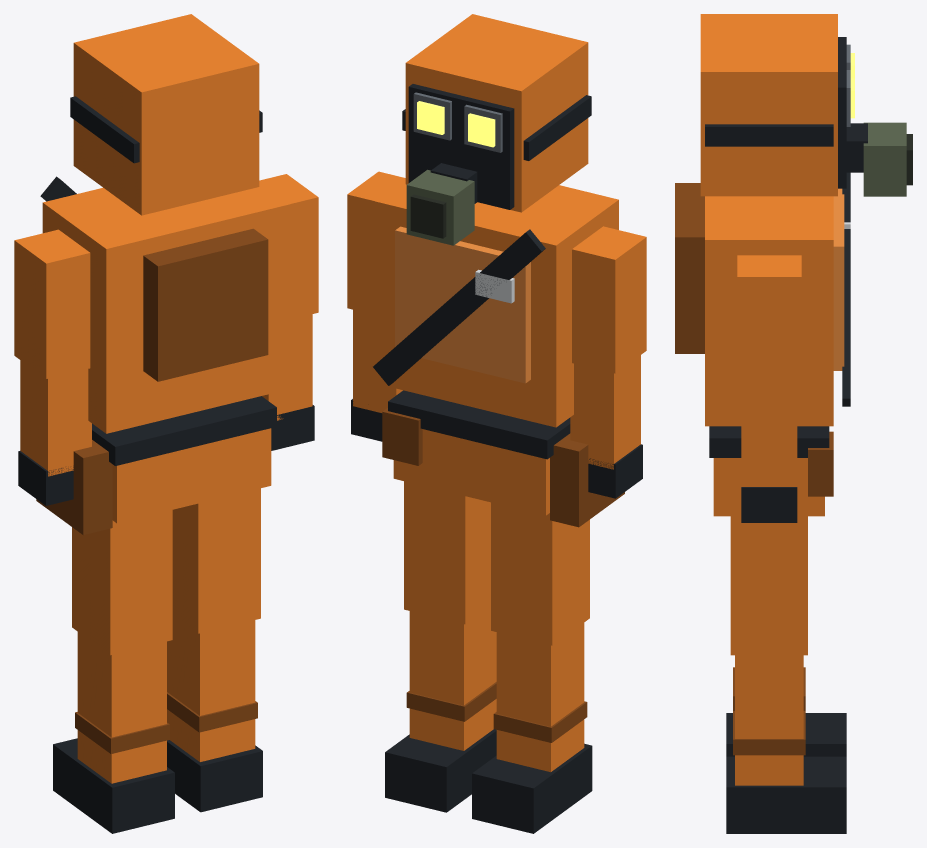
File: gas_mask_orange.glb
3 renders of one model, left to right at view 1: azimuth 30°, elevation 25°; view 2: azimuth 150°, elevation 25°; view 3: azimuth 270°, elevation 25°, orthographic. The views are drawn at different scales.
Parts seen in each view (by area): view 1: Merged4, Merged, Merged7, Merged5, Merged6, _MeshInstance3D_1635, _MeshInstance3D_1646, _MeshInstance3D_1630, Merged2, _MeshInstance3D_1641, Merged3; view 2: Merged4, Merged, Merged7, Merged5, Merged6, _MeshInstance3D_1635, _MeshInstance3D_1646, _MeshInstance3D_1630, Merged2, _MeshInstance3D_1641, Merged3; view 3: Merged, Merged4, Merged6, _MeshInstance3D_1646, _MeshInstance3D_1641, Merged3, Merged7, Merged5.
Boxes of the visible parts, x1,y1,x2,y2 form: Merged4: (40,176,290,433); Merged: (70,14,262,215); Merged7: (36,396,276,534); Merged5: (53,632,174,833); Merged6: (167,615,262,812); _MeshInstance3D_1635: (72,510,172,655); _MeshInstance3D_1646: (172,488,260,633); _MeshInstance3D_1630: (14,229,90,378); Merged2: (18,360,91,505); _MeshInstance3D_1641: (259,174,318,319); Merged3: (262,314,314,450); Merged4: (373,179,618,427); Merged: (402,14,591,245); Merged7: (382,390,624,527); Merged5: (472,623,592,833); Merged6: (385,606,496,812); _MeshInstance3D_1635: (491,502,589,645); _MeshInstance3D_1646: (404,481,490,624); _MeshInstance3D_1630: (572,226,646,373); Merged2: (570,355,642,498); _MeshInstance3D_1641: (347,171,405,314); Merged3: (351,309,402,441); Merged: (700,14,912,196); Merged4: (675,172,850,426); Merged6: (726,655,846,833); _MeshInstance3D_1646: (730,516,807,655); _MeshInstance3D_1641: (737,255,801,393); Merged3: (741,393,797,522); Merged7: (709,426,833,516); Merged5: (726,667,846,756).
Size of the model in its own units: 0.74 by 1.94 by 0.555.
